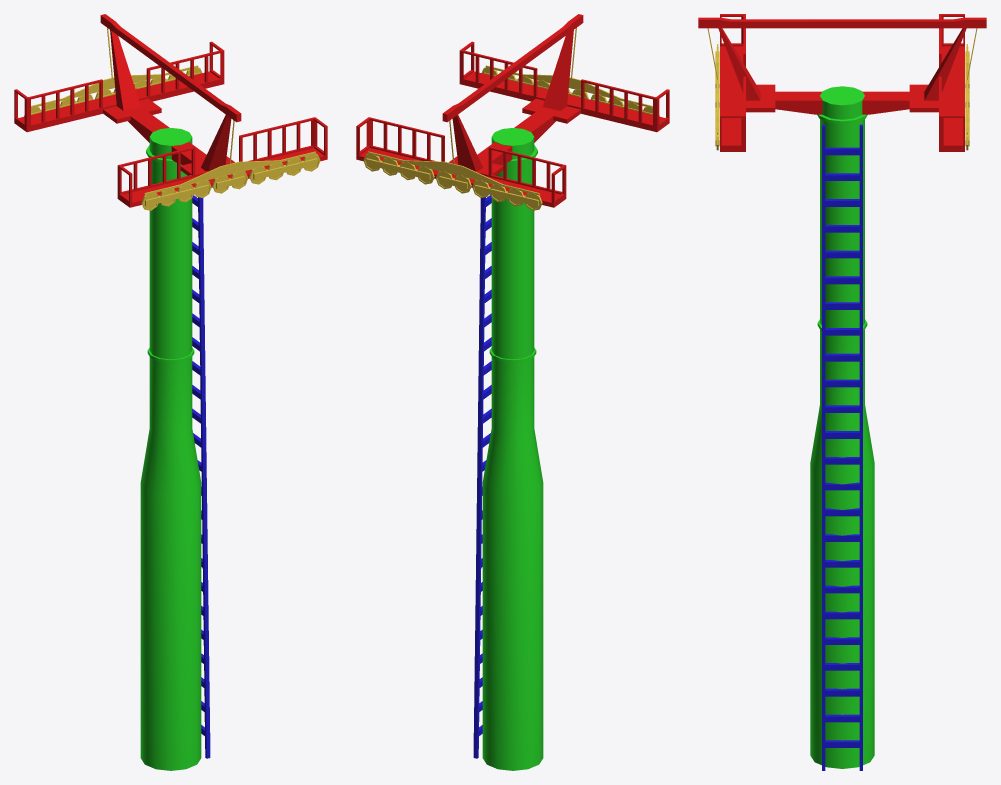
File: Lift_Pylon_Mesh.fbx
The picture shows the model from 3 angles, left to right: view 1: azimuth 30°, elevation 25°; view 2: azimuth 150°, elevation 25°; view 3: azimuth 270°, elevation 25°; orthographic projection. The views are drawn at different scales.
Visible parts, largest first — view 1: Lift_Pylon; view 2: Lift_Pylon; view 3: Lift_Pylon.
Boxes of the visible parts, x1,y1,x2,y2 form: Lift_Pylon: (14,14,327,770); Lift_Pylon: (356,14,669,770); Lift_Pylon: (698,14,986,770).
Size of the model in its own units: 898 by 754 by 2528.
